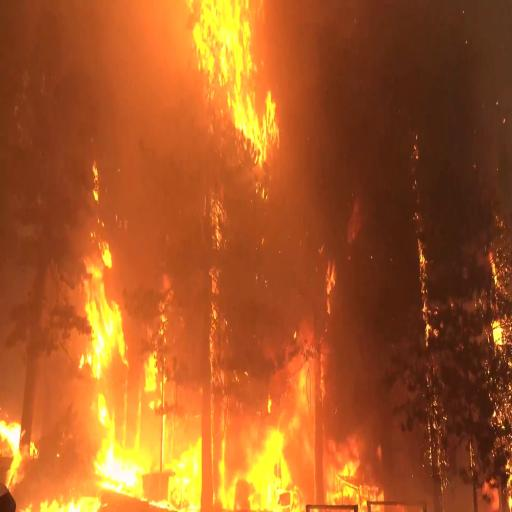fire: (74, 186, 150, 492), (161, 402, 303, 512), (189, 0, 283, 153)
